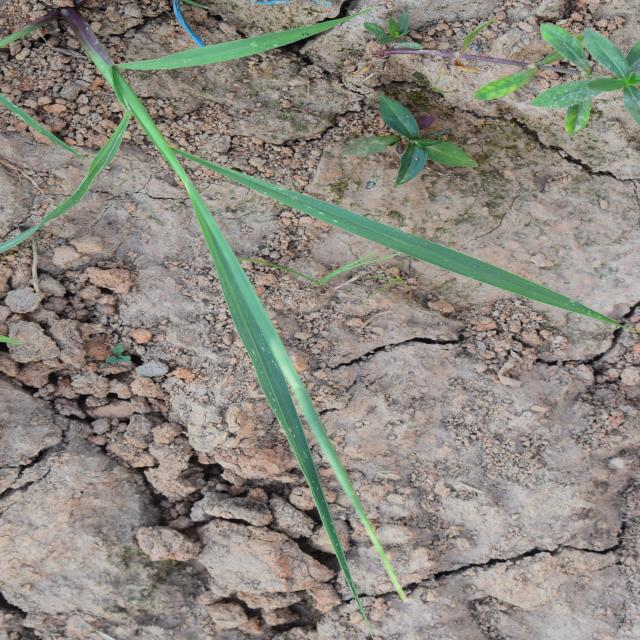green_foxtail: (143, 52, 607, 485)
